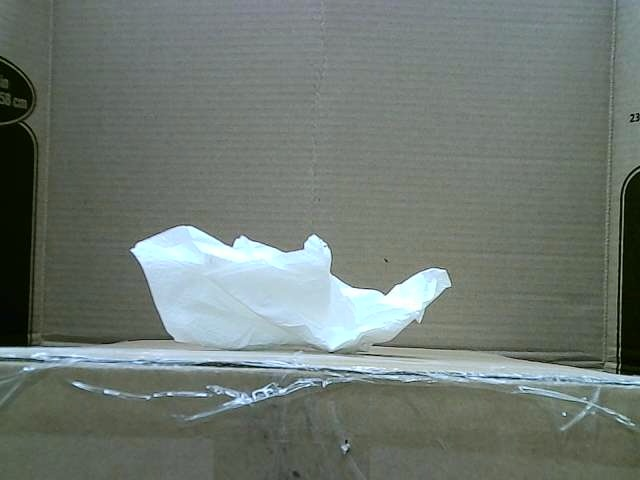Tissue: (127, 221, 452, 351)
